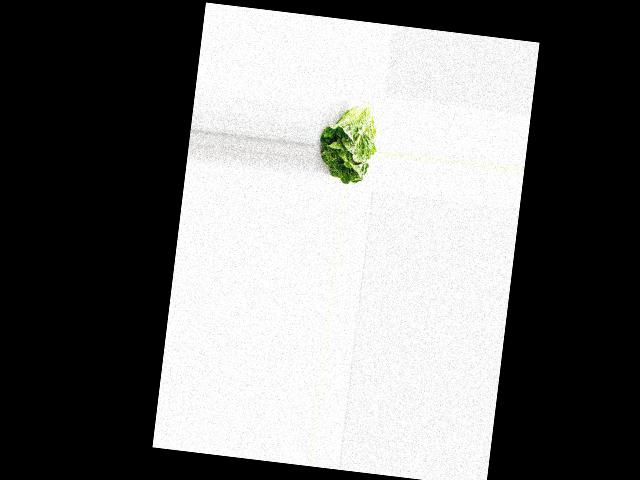lettuce: (314, 98, 382, 186)
